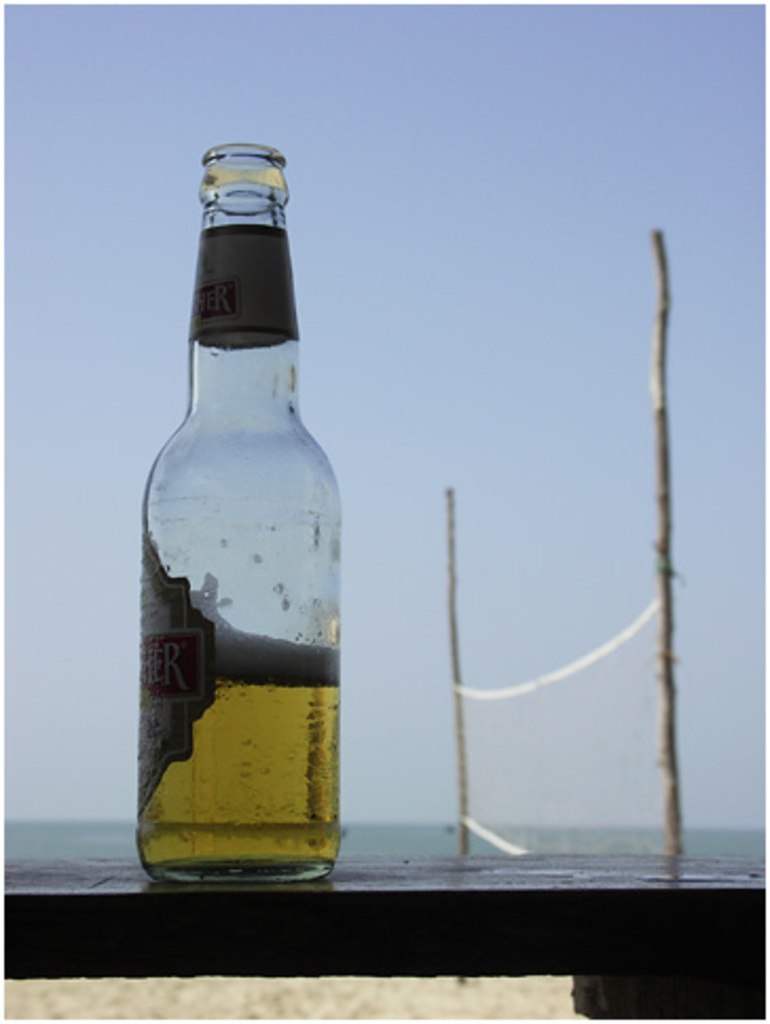Beer: (135, 126, 346, 873)
